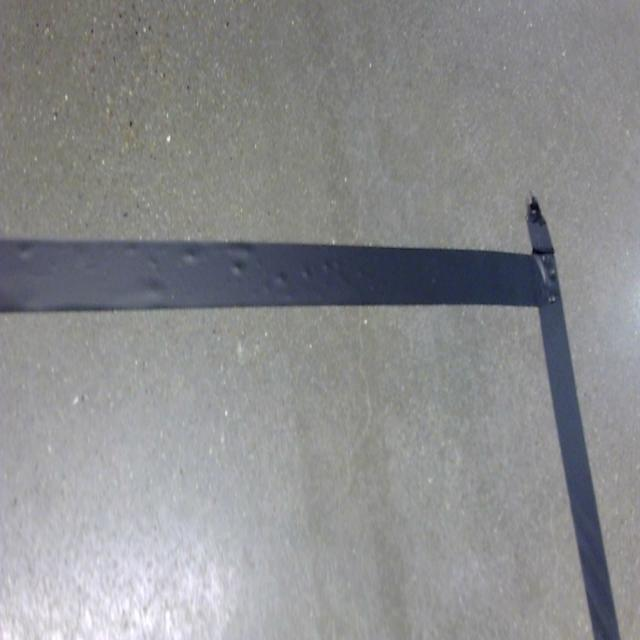tape: (0, 180, 628, 640)
